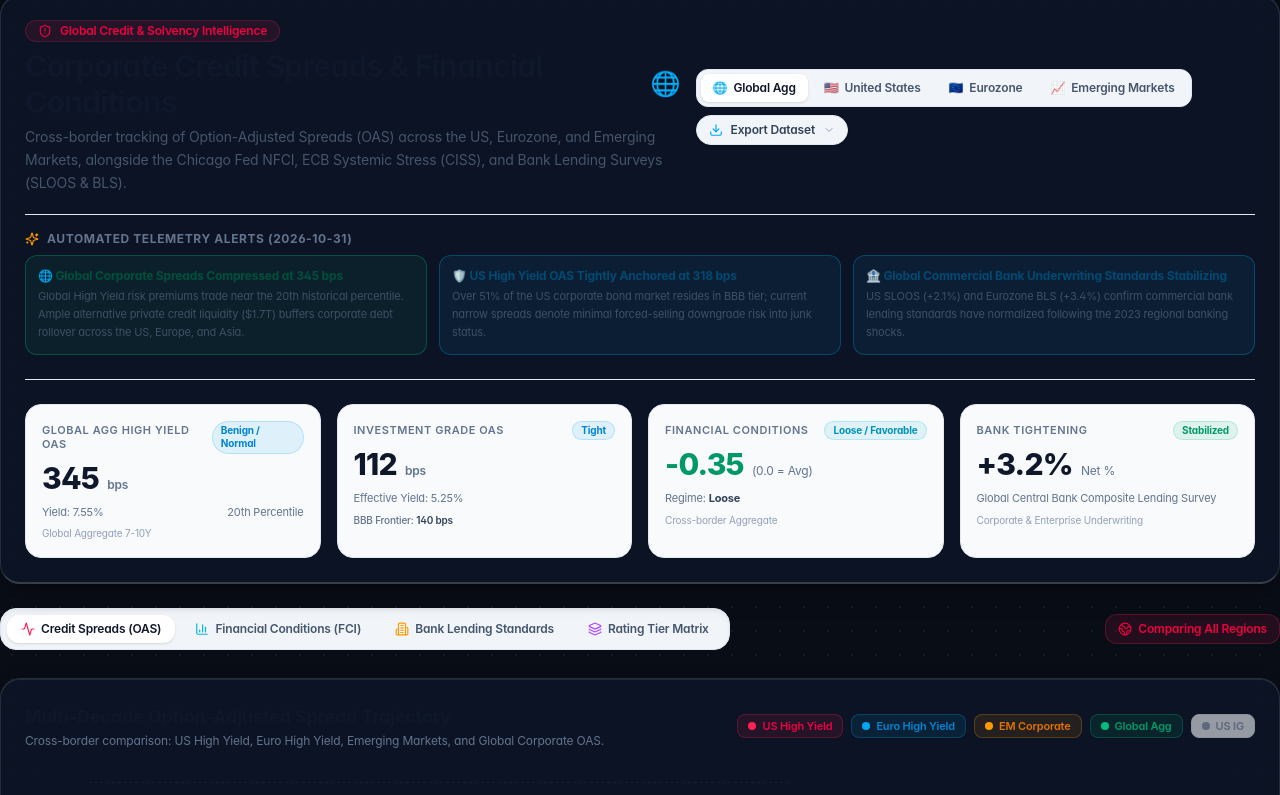
Test case: CreditMarketRadar Component › switches to Financial Conditions view and renders cross-border comparison
Click the button "Financial Conditions (FCI)": (278, 629) [181, 615, 375, 643]
(page scrolled)
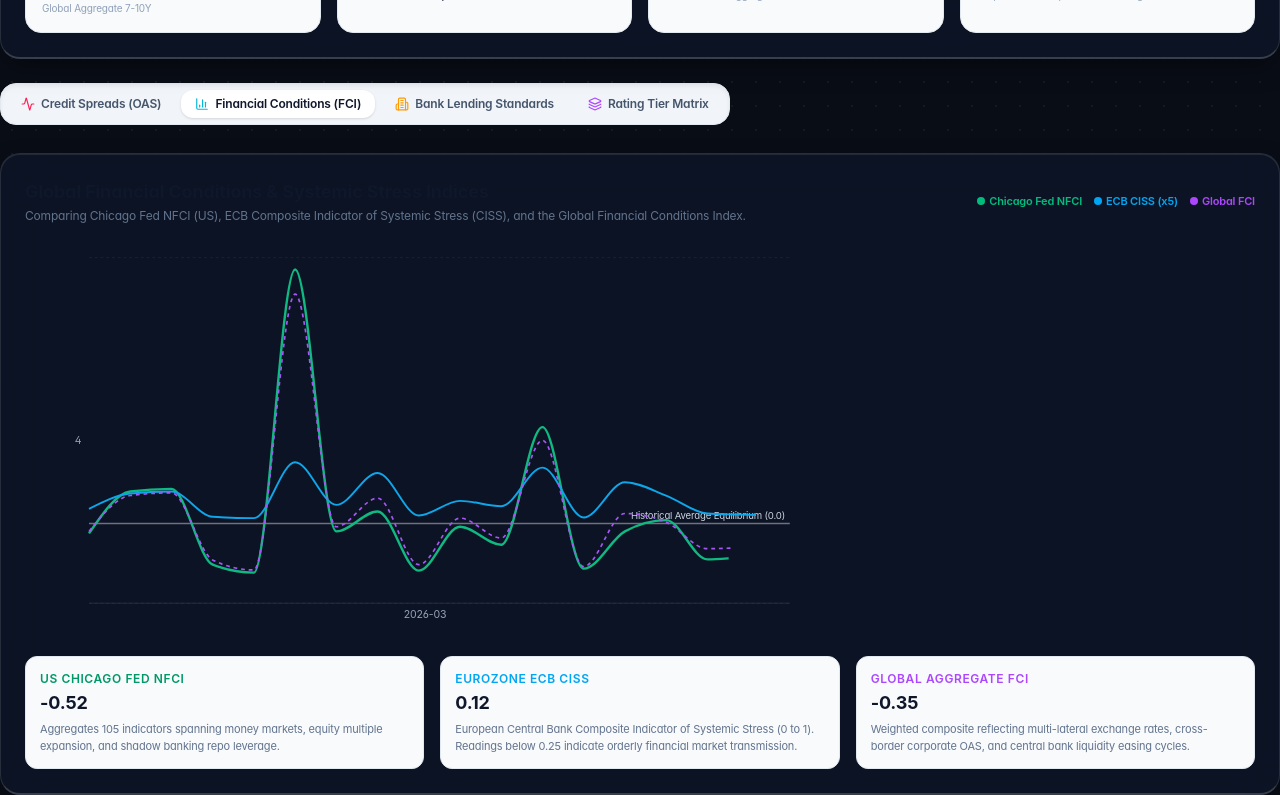
Expected: the text "Eurozone ECB CISS" is shown, [455, 671, 590, 686]
Expected: the text "Global Aggregate FCI" is shown, [871, 671, 1029, 686]
